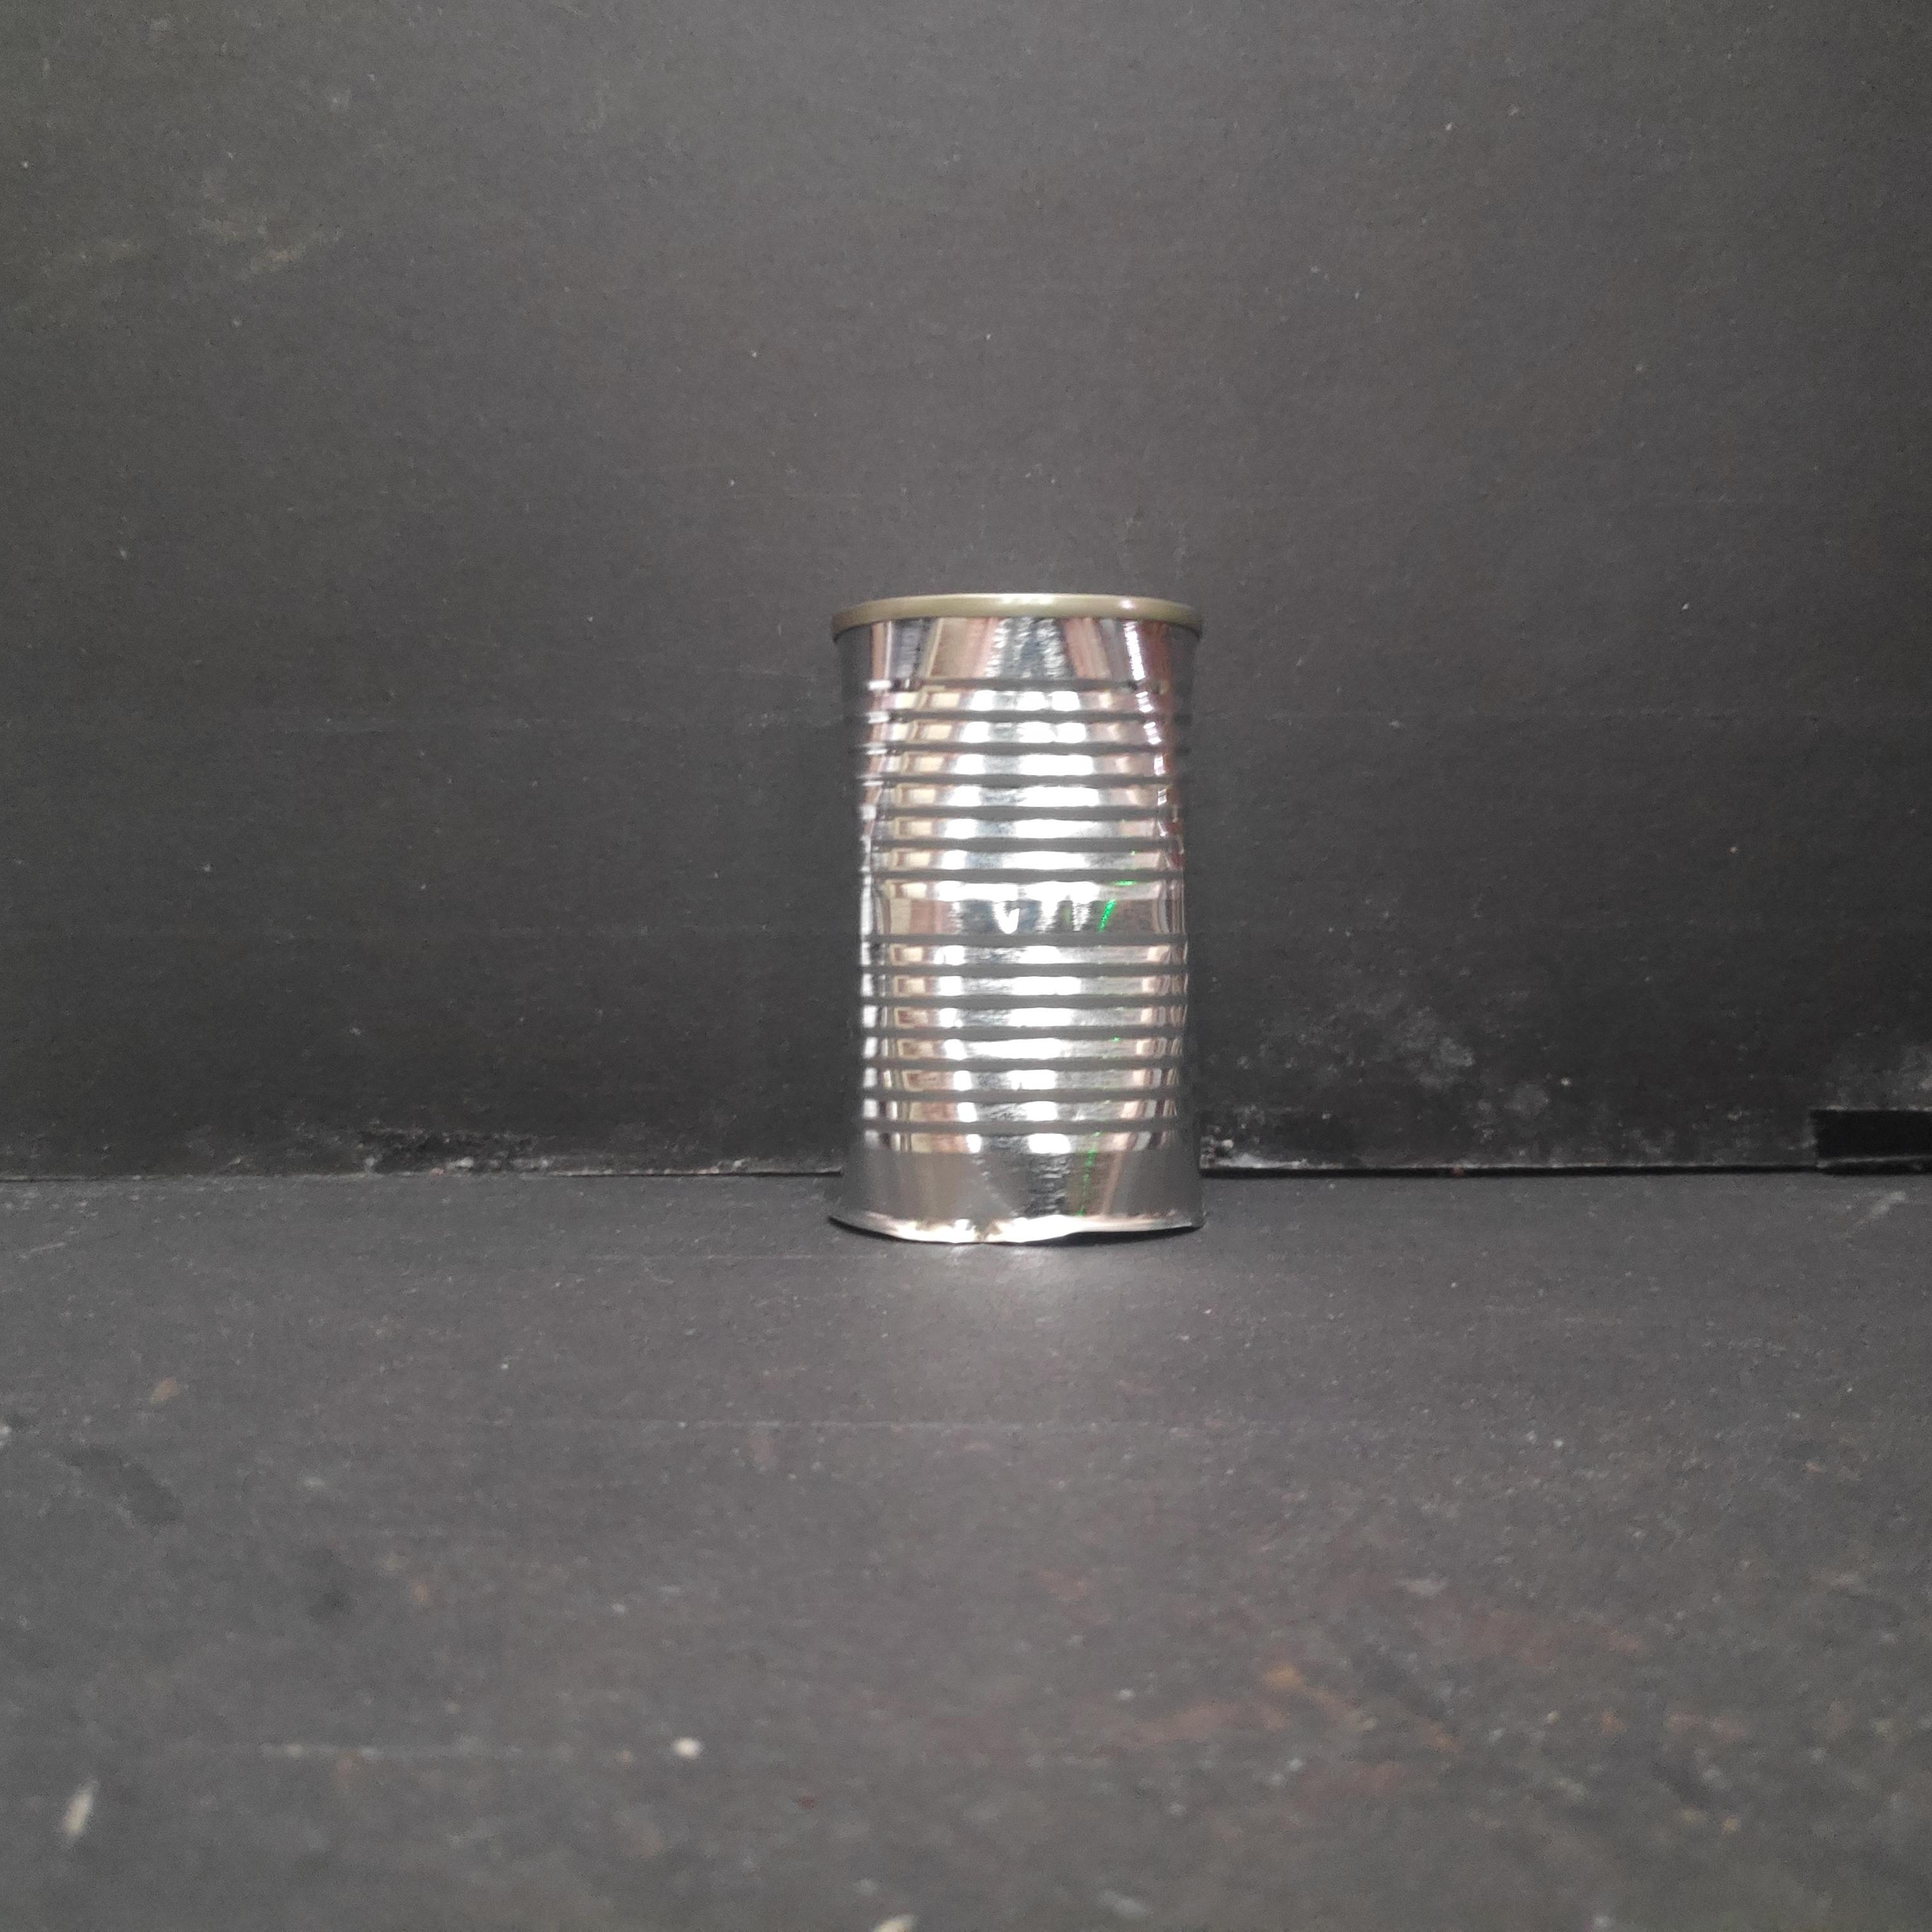Minor Defect: (823, 589, 1221, 1253)
